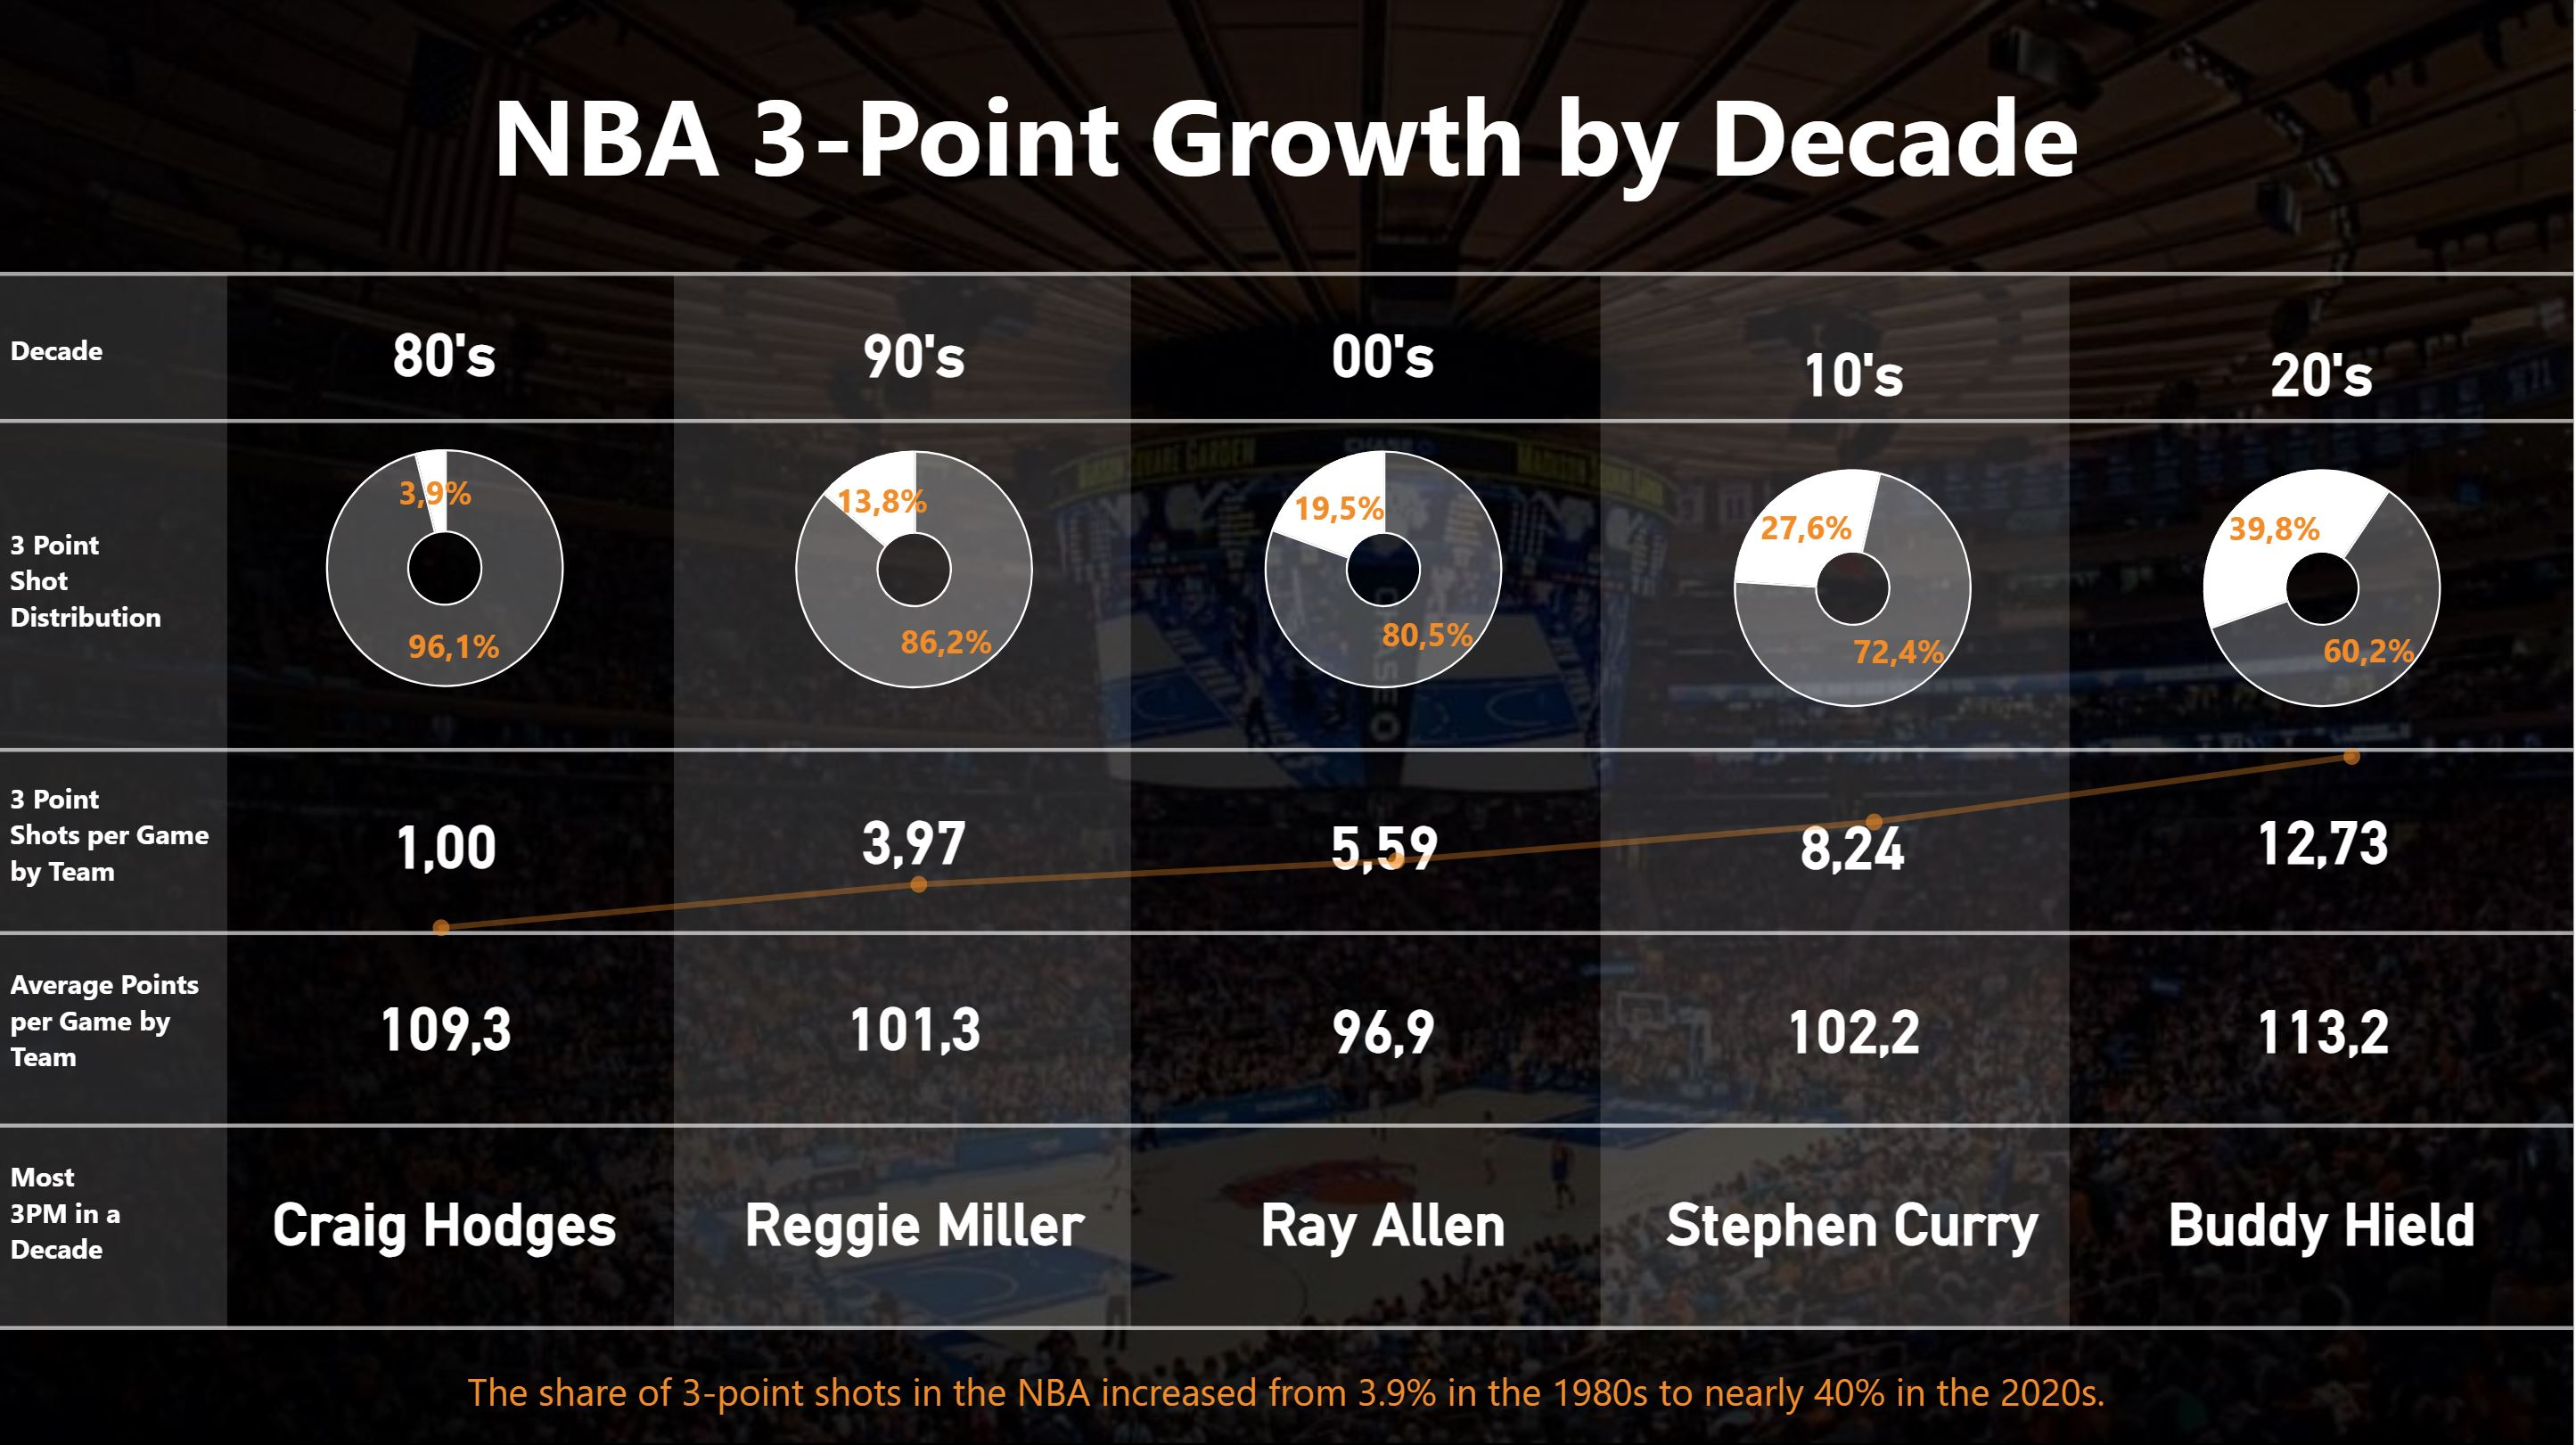

The dashboard page shown, as its layout file describes it:
{"tool":"powerbi","page":{"name":"Page 2","canvas":[1280,720],"ordinal":1},"visuals":[{"type":"shape","box":[334.9,136.7,227.6,524],"z":0},{"type":"shape","box":[0,137.2,113,524],"z":1000},{"type":"shape","box":[795.8,137.6,233.3,524],"z":2000},{"type":"shape","box":[0,601.8,1280,118.2],"z":3000},{"type":"shape","box":[0,30.8,1280,212.1],"z":4000},{"type":"shape","box":[0,103.5,1280,212.1],"z":5000},{"type":"shape","box":[0,454.3,1280,212.1],"z":6000},{"type":"shape","box":[0,358.2,1280,212.1],"z":7000},{"type":"shape","box":[0,267.2,1280,212.1],"z":8000},{"type":"donutChart","title":"80''s","fields":{"Y":["Sum(Team Totals.x2pa)","Sum(Team Totals.x3pa)"]},"box":[113,160,215.8,212.1],"z":9000},{"type":"card","fields":{"Values":["Measures Table.Average 3's made per game"]},"box":[113,372.8,215.8,92.5],"z":10000},{"type":"card","fields":{"Values":["Measures Table.Average of Points by Team"]},"box":[113,463.9,215.8,92.5],"z":11000},{"type":"textbox","box":[0,256.3,94.2,71.2],"z":12000},{"type":"textbox","box":[0,382.4,118.2,71.9],"z":13000},{"type":"textbox","box":[0,474.9,108.1,72.1],"z":14000},{"type":"donutChart","title":"90''s","fields":{"Y":["Sum(Team Totals.x2pa)","Sum(Team Totals.x3pa)"]},"box":[346.4,160.7,215.8,212.1],"z":15000},{"type":"card","fields":{"Values":["Measures Table.Average 3's made per game"]},"box":[346.4,371.4,215.8,92.5],"z":16000},{"type":"card","fields":{"Values":["Measures Table.Average of Points by Team"]},"box":[346.4,463.9,215.8,92.5],"z":17000},{"type":"donutChart","title":"00''s","fields":{"Y":["Sum(Team Totals.x2pa)","Sum(Team Totals.x3pa)"]},"box":[579.8,160.7,215.8,212.1],"z":18000},{"type":"donutChart","title":"10''s","fields":{"Y":["Sum(Team Totals.x2pa)","Sum(Team Totals.x3pa)"]},"box":[813.2,170.3,215.8,212.1],"z":19000},{"type":"donutChart","title":"20''s","fields":{"Y":["Sum(Team Totals.x2pa)","Sum(Team Totals.x3pa)"]},"box":[1046.6,170.3,215.8,212.1],"z":20000},{"type":"card","fields":{"Values":["Measures Table.Average 3's made per game"]},"box":[579.8,373.6,215.8,92.5],"z":21000},{"type":"card","fields":{"Values":["Measures Table.Average 3's made per game"]},"box":[813.2,373.6,215.8,92.5],"z":22000},{"type":"card","fields":{"Values":["Measures Table.Average 3's made per game"]},"box":[1046.6,371.4,215.8,92.5],"z":23000},{"type":"card","fields":{"Values":["Measures Table.Average of Points by Team"]},"box":[579.8,464.6,215.8,92.5],"z":24000},{"type":"card","fields":{"Values":["Measures Table.Average of Points by Team"]},"box":[813.2,464.6,215.8,92.5],"z":25000},{"type":"card","fields":{"Values":["Measures Table.Average of Points by Team"]},"box":[1046.6,464.6,215.8,92.5],"z":26000},{"type":"card","fields":{"Values":["Measures Table.Top Player 3PM"]},"box":[113,560.7,215.8,92.5],"z":27000},{"type":"card","fields":{"Values":["Measures Table.Top Player 3PM"]},"box":[346.4,560.7,215.8,92.5],"z":28000},{"type":"card","fields":{"Values":["Measures Table.Top Player 3PM"]},"box":[579.8,560.7,215.8,92.5],"z":29000},{"type":"card","fields":{"Values":["Measures Table.Top Player 3PM"]},"box":[813.2,560.7,215.8,92.5],"z":30000},{"type":"card","fields":{"Values":["Measures Table.Top Player 3PM"]},"box":[1046.6,560.7,215.8,92.5],"z":31000},{"type":"textbox","box":[0,570.7,71.2,72.1],"z":32000},{"type":"textbox","box":[0,159.7,118.7,46.7],"z":33000},{"type":"textbox","box":[99.9,25.4,1079.1,111.4],"z":34000},{"type":"textbox","box":[0,674.7,1279.7,45],"z":34001},{"type":"lineChart","fields":{"Category":["Calendar.Decade"],"Y":["Measures Table.Average 3's made per game"]},"box":[119,345.8,1150.5,129],"z":34002}]}

Visuals, with their boxes in screenshot pixels (x1, y1, x2, y2), scaled from the page's 1280x720 canvas onto the 2576x1445 screenshot:
shape: (left=674, top=275, right=1132, bottom=1326)
shape: (left=0, top=275, right=227, bottom=1327)
shape: (left=1602, top=276, right=2071, bottom=1328)
shape: (left=0, top=1208, right=2575, bottom=1444)
shape: (left=0, top=62, right=2575, bottom=488)
shape: (left=0, top=208, right=2575, bottom=634)
shape: (left=0, top=912, right=2575, bottom=1337)
shape: (left=0, top=718, right=2575, bottom=1145)
shape: (left=0, top=537, right=2575, bottom=962)
"80''s" donutChart: (left=227, top=321, right=661, bottom=747)
card - Measures Table.Average 3's made per game: (left=227, top=748, right=661, bottom=934)
card - Measures Table.Average of Points by Team: (left=227, top=931, right=661, bottom=1117)
textbox: (left=0, top=514, right=190, bottom=657)
textbox: (left=0, top=768, right=238, bottom=912)
textbox: (left=0, top=953, right=217, bottom=1098)
"90''s" donutChart: (left=697, top=323, right=1131, bottom=748)
card - Measures Table.Average 3's made per game: (left=697, top=745, right=1131, bottom=931)
card - Measures Table.Average of Points by Team: (left=697, top=931, right=1131, bottom=1117)
"00''s" donutChart: (left=1167, top=323, right=1601, bottom=748)
"10''s" donutChart: (left=1637, top=341, right=2071, bottom=768)
"20''s" donutChart: (left=2106, top=341, right=2540, bottom=768)
card - Measures Table.Average 3's made per game: (left=1167, top=750, right=1601, bottom=935)
card - Measures Table.Average 3's made per game: (left=1637, top=750, right=2071, bottom=935)
card - Measures Table.Average 3's made per game: (left=2106, top=745, right=2540, bottom=931)
card - Measures Table.Average of Points by Team: (left=1167, top=932, right=1601, bottom=1118)
card - Measures Table.Average of Points by Team: (left=1637, top=932, right=2071, bottom=1118)
card - Measures Table.Average of Points by Team: (left=2106, top=932, right=2540, bottom=1118)
card - Measures Table.Top Player 3PM: (left=227, top=1125, right=661, bottom=1311)
card - Measures Table.Top Player 3PM: (left=697, top=1125, right=1131, bottom=1311)
card - Measures Table.Top Player 3PM: (left=1167, top=1125, right=1601, bottom=1311)
card - Measures Table.Top Player 3PM: (left=1637, top=1125, right=2071, bottom=1311)
card - Measures Table.Top Player 3PM: (left=2106, top=1125, right=2540, bottom=1311)
textbox: (left=0, top=1145, right=144, bottom=1290)
textbox: (left=0, top=321, right=239, bottom=415)
textbox: (left=201, top=51, right=2373, bottom=275)
textbox: (left=0, top=1354, right=2575, bottom=1444)
lineChart - Calendar.Decade x Measures Table.Average 3's made per game: (left=240, top=694, right=2555, bottom=953)
